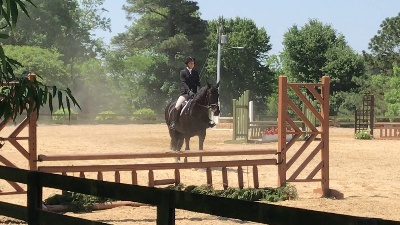jetta: (162, 80, 222, 164)
